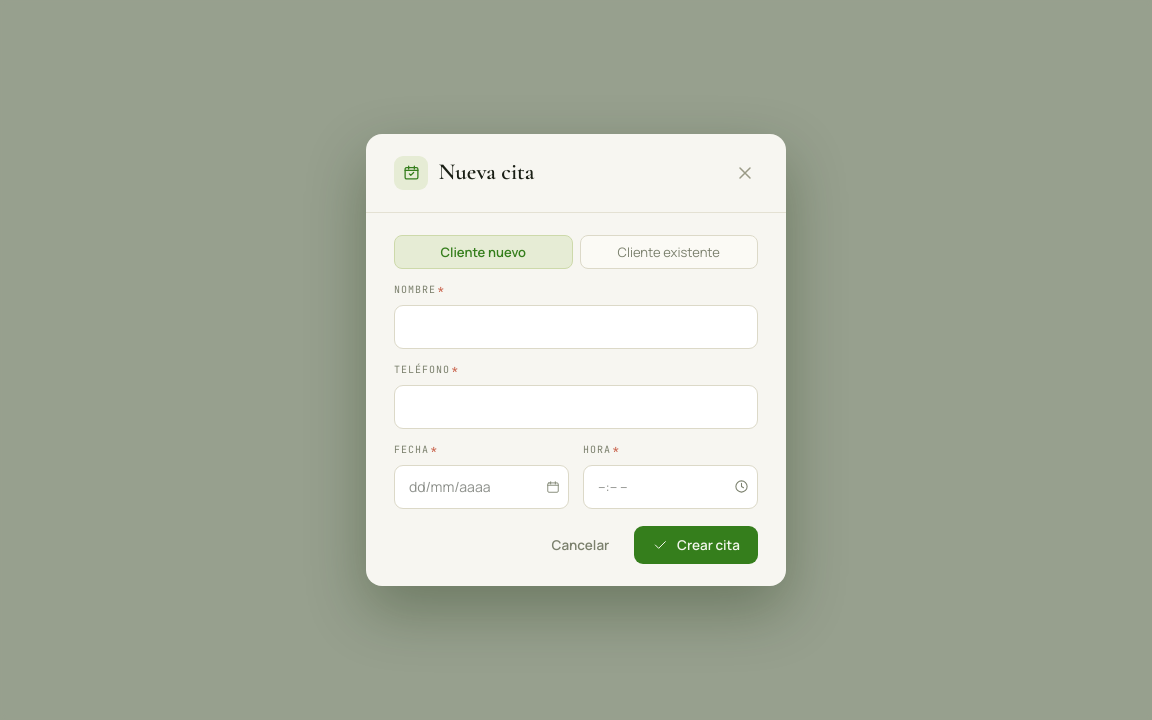
it: AppointmentModal — create mode › switching to Cliente existente hides the free-text name/phone fields and shows a search input
Click the button "Cliente existente" at (669, 252), box [580,235,758,269]
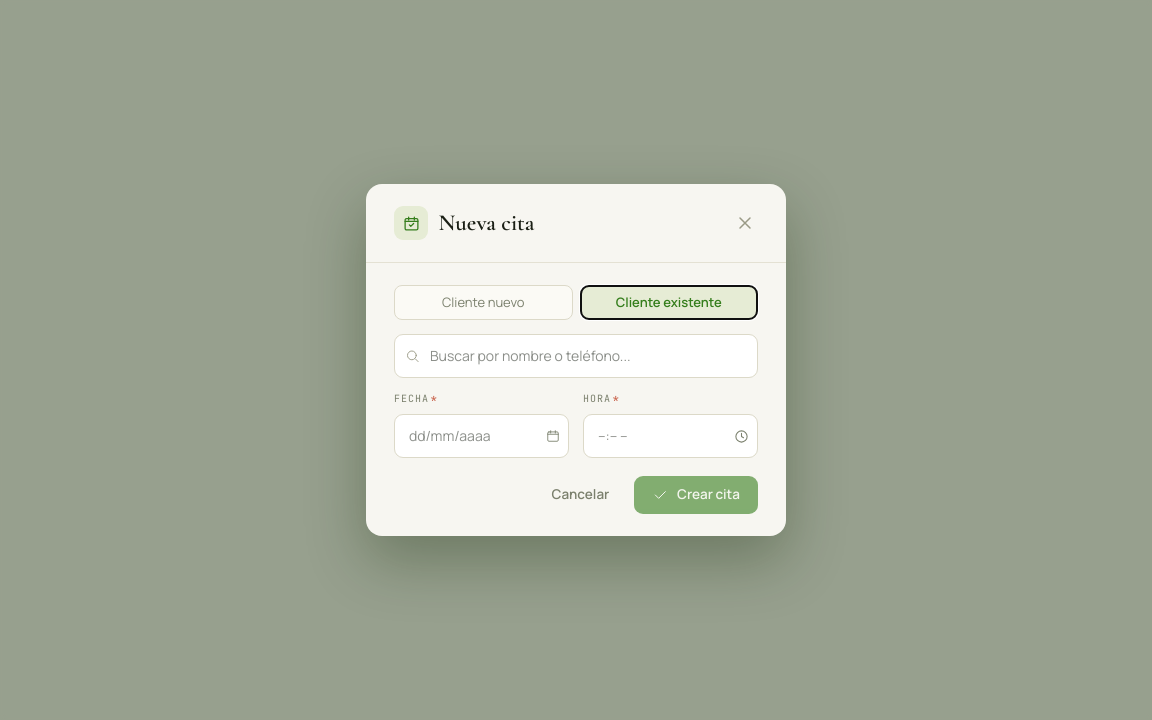
Now the field with placeholder "Buscar por nombre o teléfono..." is shown, box [394,334,758,378]
